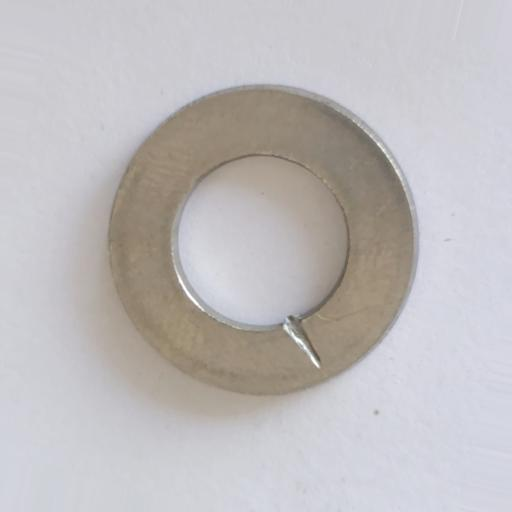scratch: (280, 314, 323, 371)
